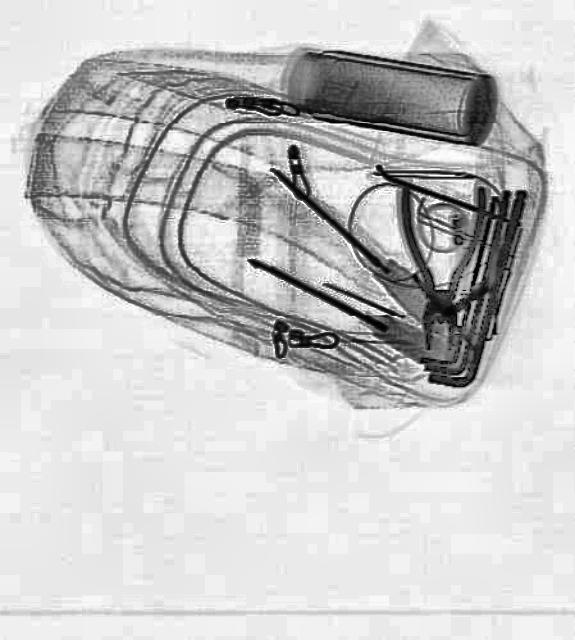Pliers: (396, 182, 486, 352)
